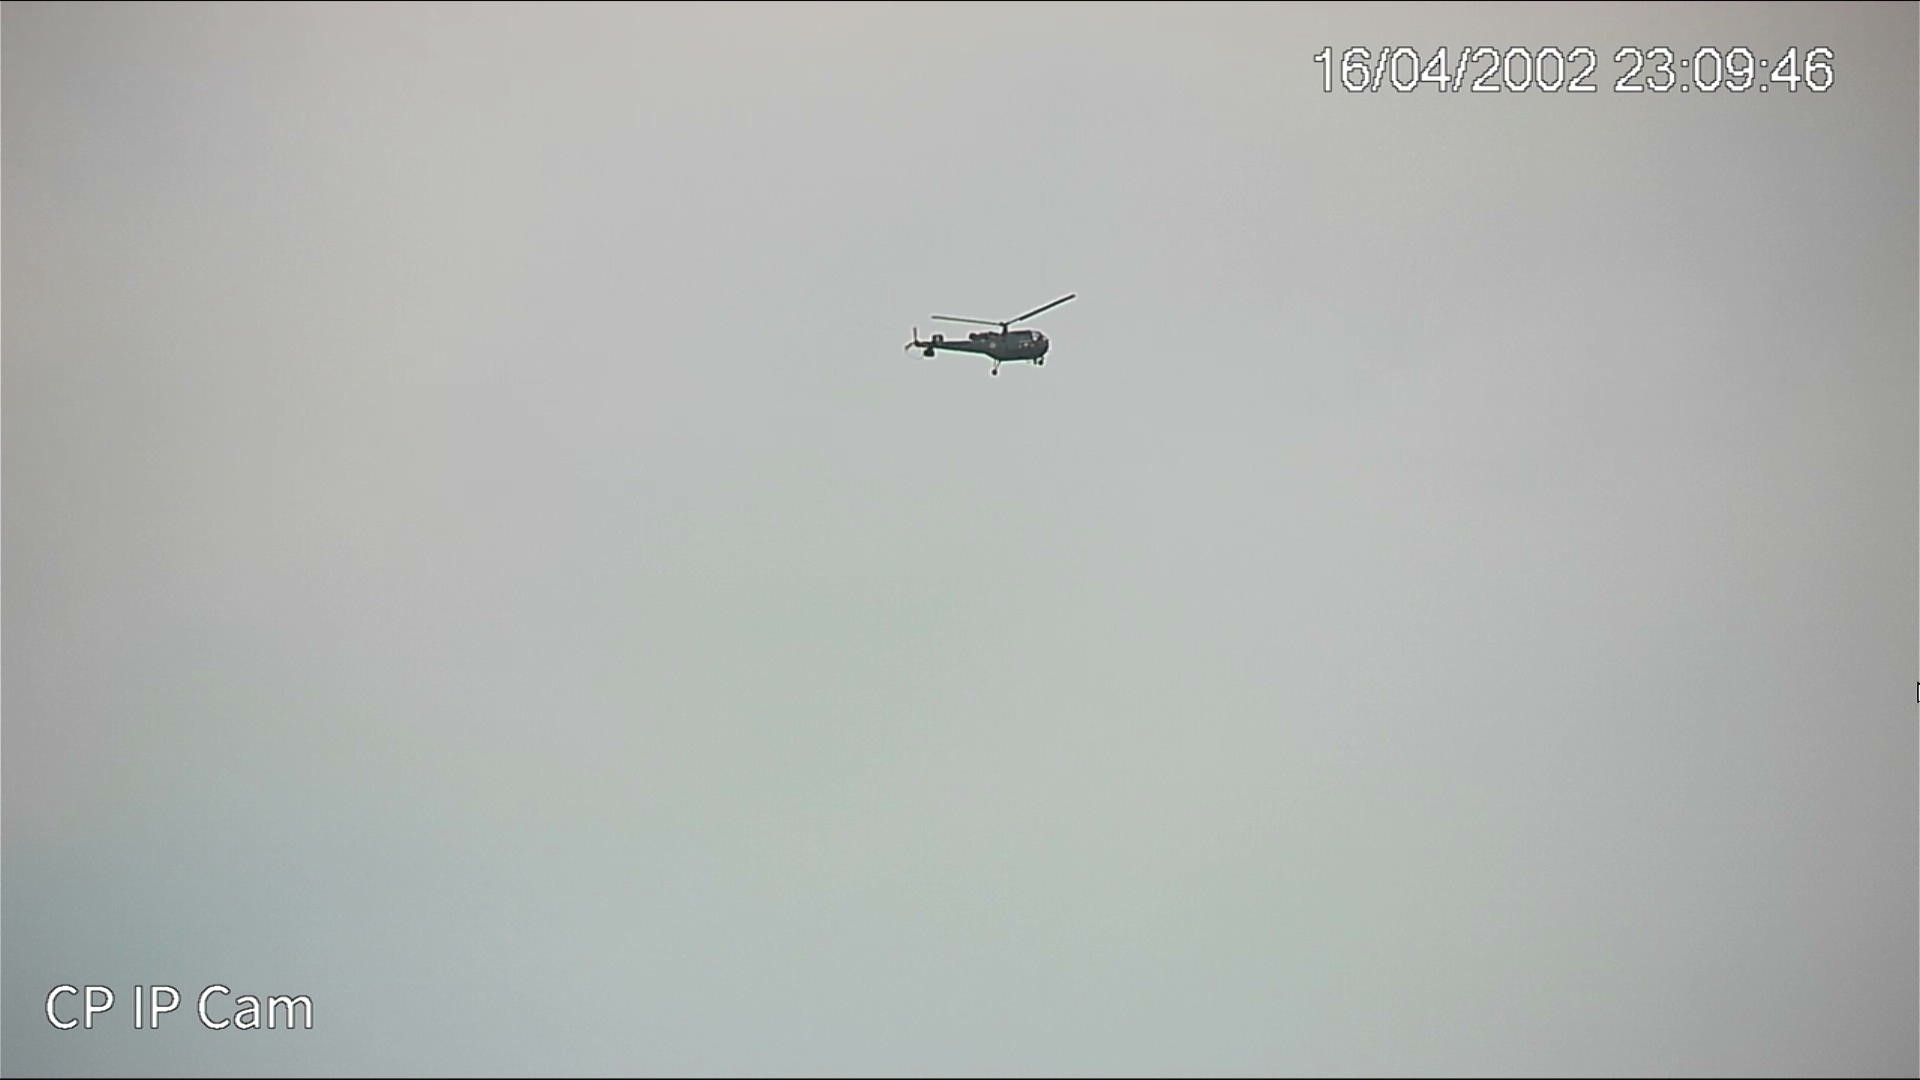SU_30: (907, 324, 1058, 375)
